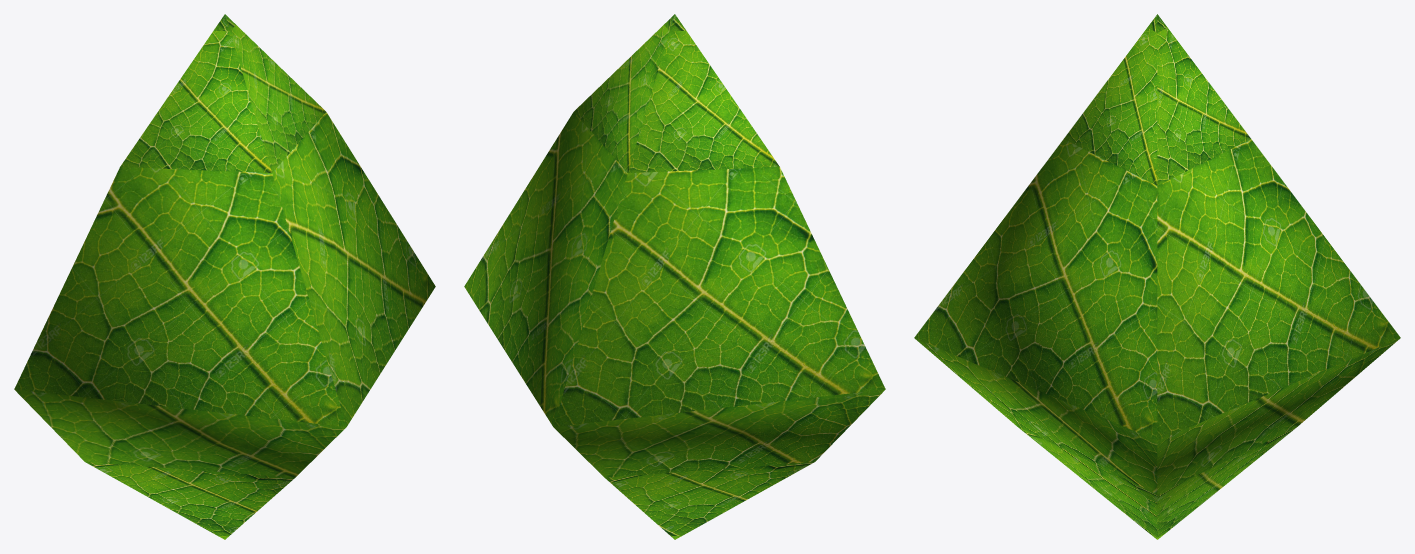
File: seed_green.fbx
3 views of the same model, side by side, from view 1: azimuth 30°, elevation 25°; view 2: azimuth 150°, elevation 25°; view 3: azimuth 270°, elevation 25° (orthographic).
Parts seen in each view (by area): view 1: GeoSphere001; view 2: GeoSphere001; view 3: GeoSphere001.
Boxes of the visible parts, left/top/right/bottom form: GeoSphere001: left=14, top=14, right=435, bottom=539; GeoSphere001: left=464, top=14, right=885, bottom=539; GeoSphere001: left=914, top=14, right=1400, bottom=539.
Size of the model in its own units: 49.24 by 58.7 by 49.24.
Materials: 1 (1 with a texture image).
